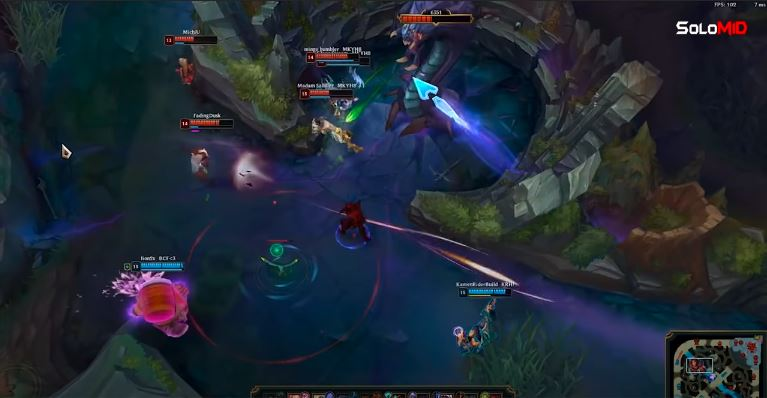bar: (130, 257, 188, 273), (314, 54, 375, 69), (162, 33, 220, 48), (178, 115, 236, 129), (305, 49, 360, 63), (455, 286, 514, 299), (298, 87, 356, 100)
